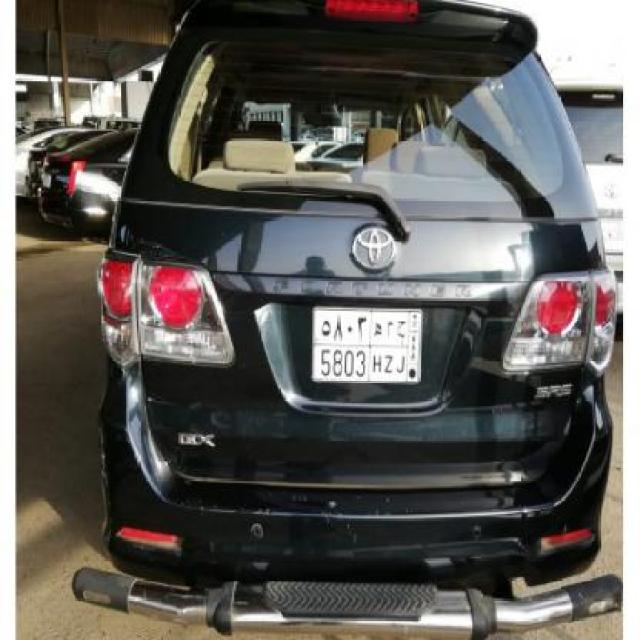license_plate: (311, 305, 423, 386)
